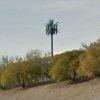Palm tree: (36, 14, 74, 58)
